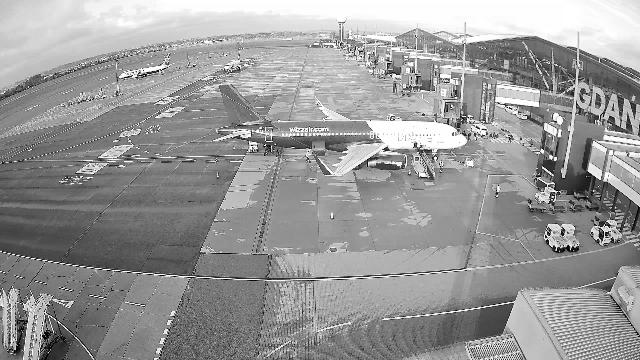Aircraft: (212, 83, 467, 176), (118, 53, 171, 79), (213, 51, 257, 71)
Airport_Tractor: (543, 223, 567, 252), (560, 223, 580, 252), (601, 220, 622, 244), (590, 226, 611, 246), (535, 186, 556, 204), (386, 114, 402, 121)
Baggage_Trolley: (536, 176, 555, 190), (528, 198, 547, 212), (550, 201, 568, 213), (584, 196, 599, 210), (594, 215, 608, 229), (569, 199, 584, 211), (574, 190, 588, 200)
Conveyor_Belt: (410, 151, 435, 178), (418, 106, 435, 116)
Ground_Crew: (305, 150, 311, 163), (495, 184, 501, 197), (439, 160, 444, 173)
Passengers: (492, 132, 498, 139), (519, 135, 523, 144), (508, 136, 512, 143), (474, 132, 477, 141), (461, 128, 465, 134), (468, 132, 471, 140), (530, 139, 533, 147), (480, 134, 483, 142), (489, 133, 492, 140), (463, 132, 467, 136)
